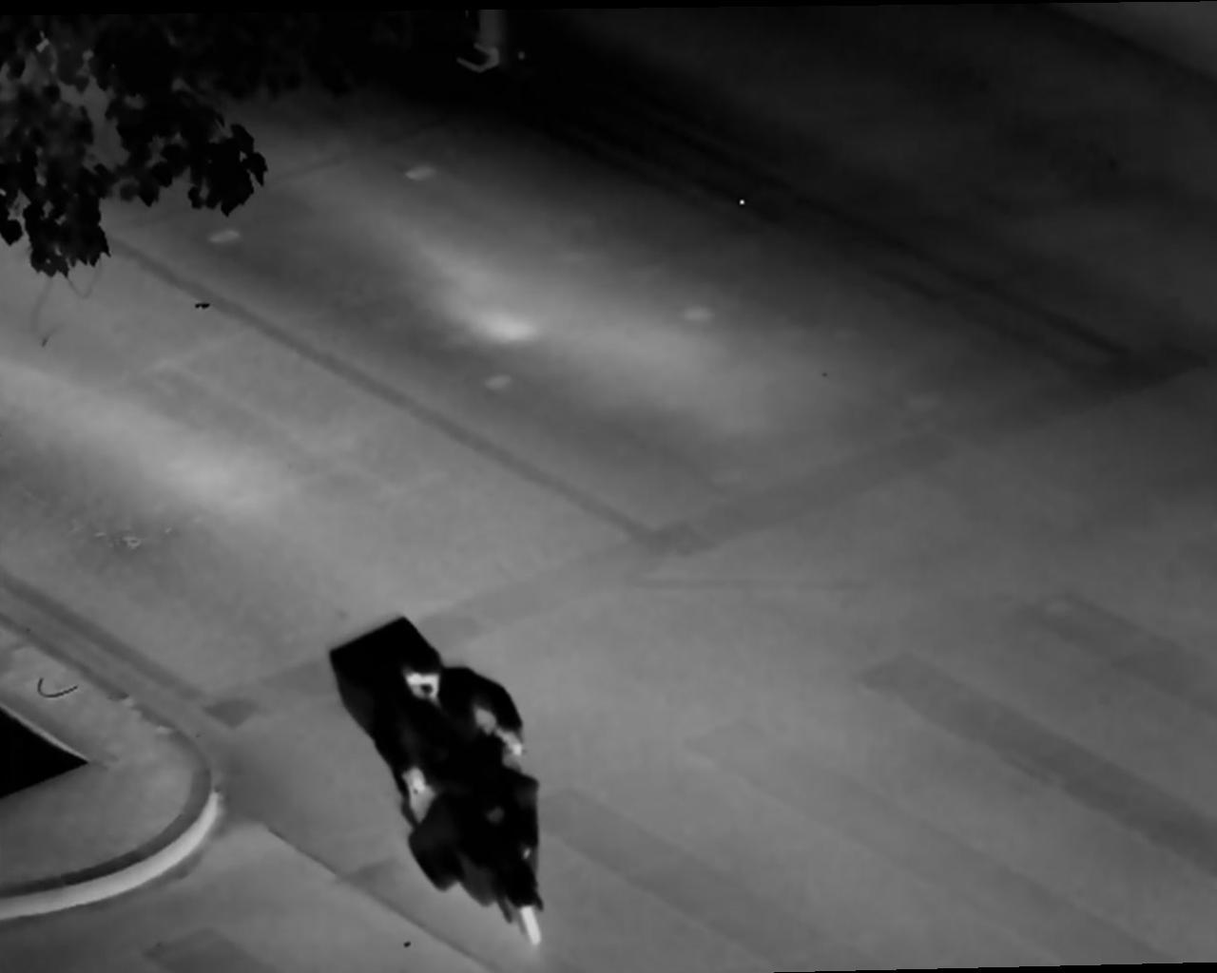person: (395, 644, 522, 863)
